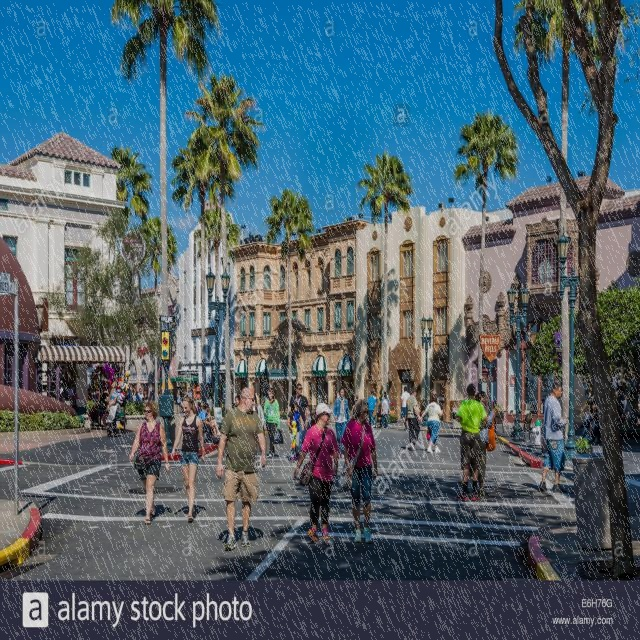pessoa: (214, 385, 270, 553), (292, 401, 340, 545), (338, 397, 378, 545), (128, 400, 170, 527), (170, 394, 207, 524), (450, 382, 490, 502), (458, 390, 496, 500), (538, 380, 572, 494), (135, 494, 206, 524), (418, 392, 445, 453), (262, 386, 284, 459), (288, 382, 309, 454), (332, 386, 349, 460), (216, 518, 262, 544), (404, 386, 422, 452), (286, 401, 304, 464), (105, 380, 121, 439), (252, 393, 265, 458), (197, 402, 214, 446), (580, 410, 600, 446), (197, 402, 214, 444), (58, 381, 76, 410), (364, 390, 376, 430), (400, 386, 410, 430), (127, 384, 148, 402), (379, 393, 389, 430), (616, 390, 624, 428), (90, 388, 108, 404), (173, 388, 183, 415), (380, 391, 390, 416), (620, 394, 628, 424), (350, 394, 360, 416), (316, 390, 328, 404), (436, 433, 461, 439), (304, 410, 312, 428), (206, 387, 214, 400), (233, 395, 240, 408), (185, 386, 192, 398), (373, 392, 378, 407), (172, 386, 176, 404), (150, 390, 155, 402), (156, 386, 162, 396)
